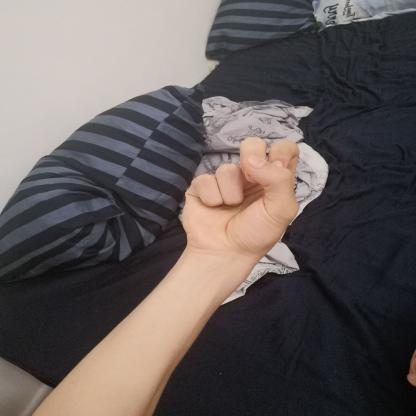QAAF: (159, 127, 316, 269)
